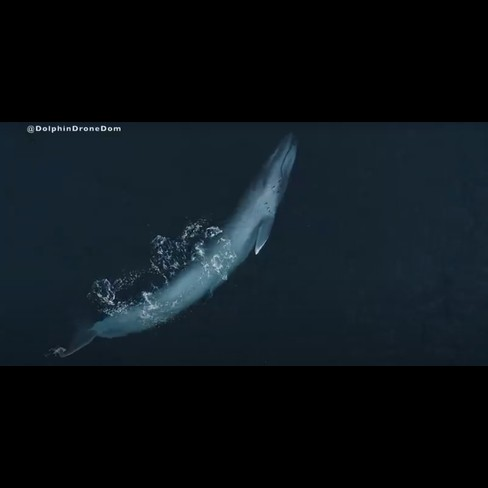bluewhale: (49, 134, 309, 367)
